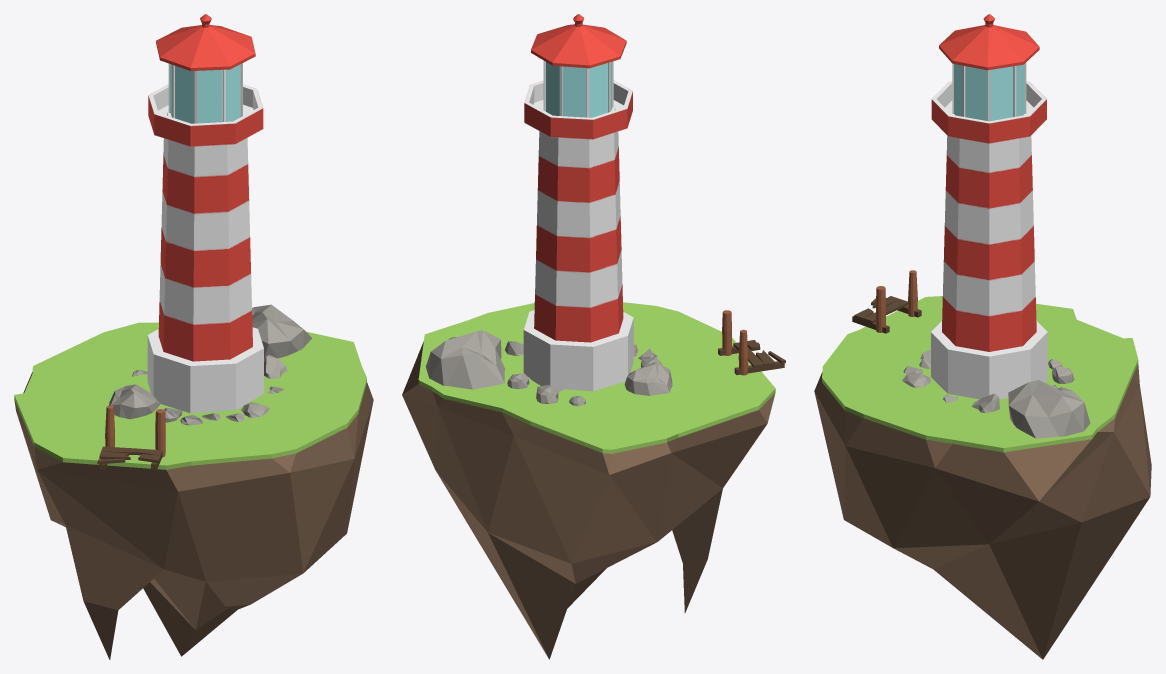
Rendered from lighthouse.glb.
The picture shows the model from 3 angles, left to right: view 1: azimuth 30°, elevation 25°; view 2: azimuth 150°, elevation 25°; view 3: azimuth 270°, elevation 25°; orthographic projection. The views are drawn at different scales.
Visible parts, largest first — view 1: skyland_1, lighthouse_0, rock1_9, rock2_2; view 2: skyland_1, lighthouse_0, rock1_9, rock2_2; view 3: skyland_1, lighthouse_0, rock1_9.
Part boxes in pixels (x1,y1,x2,y2): skyland_1: (14, 322, 373, 659); lighthouse_0: (147, 14, 263, 413); rock1_9: (252, 304, 312, 360); rock2_2: (109, 384, 160, 419); skyland_1: (402, 302, 775, 659); lighthouse_0: (523, 14, 633, 391); rock1_9: (425, 330, 504, 389); rock2_2: (624, 362, 672, 395); skyland_1: (814, 296, 1151, 659); lighthouse_0: (931, 14, 1047, 399); rock1_9: (1008, 380, 1090, 438).
Size of the model in its own units: 6.63 by 12.16 by 5.77.
Materials: 1 (1 with a texture image).
